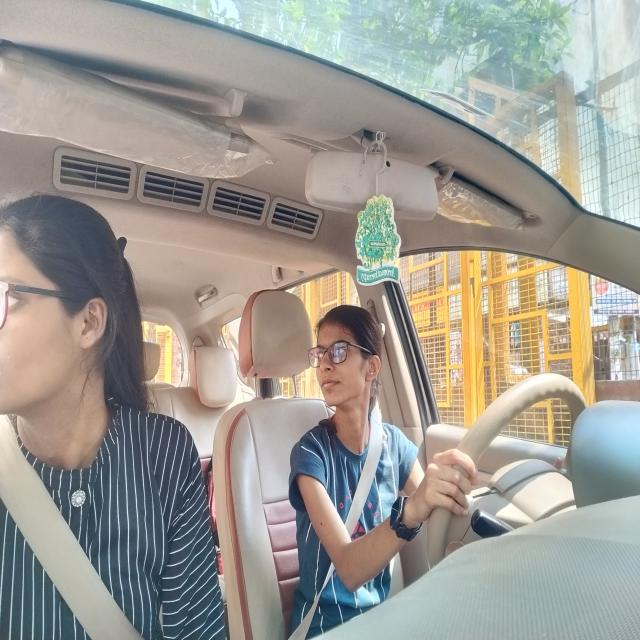LeftRight: (312, 303, 381, 417)
person: (0, 190, 138, 429)
